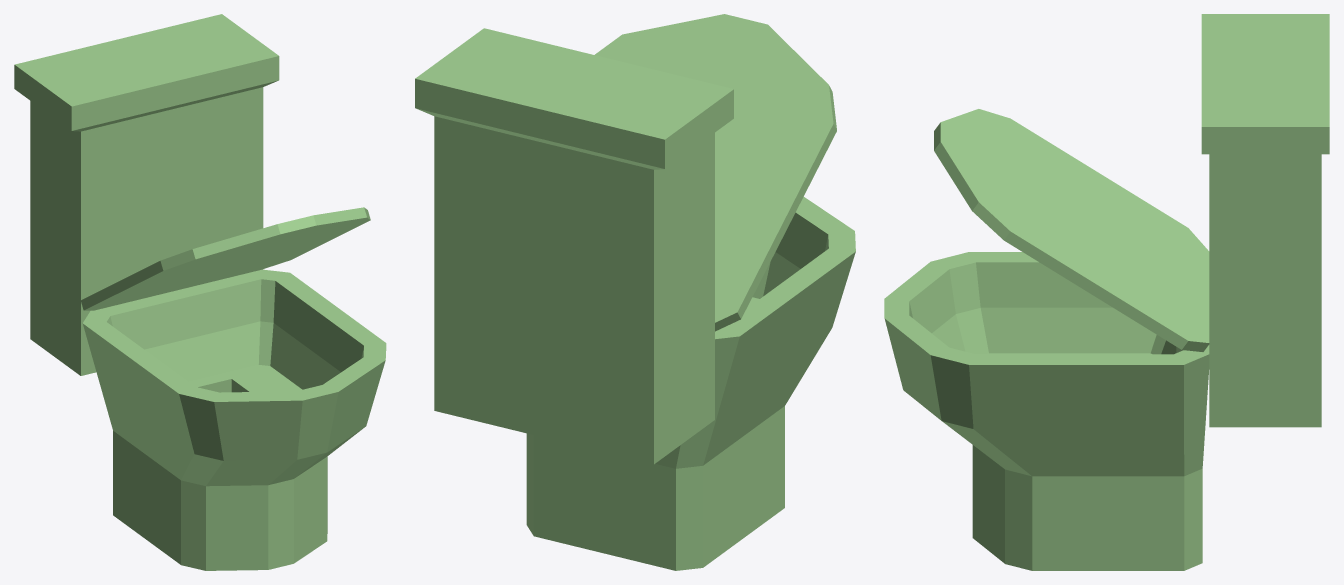
Rendered from Toilet.fbx.
3 views of the same model, side by side, from view 1: azimuth 30°, elevation 25°; view 2: azimuth 150°, elevation 25°; view 3: azimuth 270°, elevation 25° (orthographic). The views are drawn at different scales.
Parts seen in each view (by area): view 1: Toilet; view 2: Toilet; view 3: Toilet.
Part boxes in pixels (x1,y1,x2,y2): Toilet: (14,14,386,570); Toilet: (415,14,855,570); Toilet: (884,14,1329,570).
Size of the model in its own units: 176 by 329 by 289.
